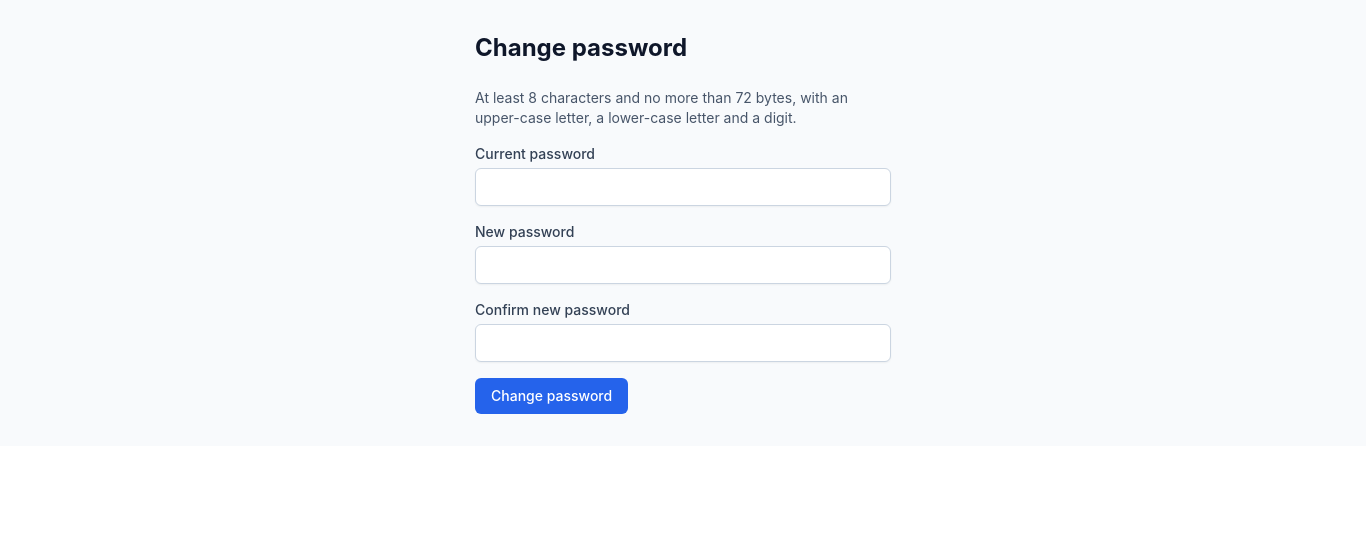
Test: ChangePasswordPage › shows the fixed sentence for incorrect (HTTP 403) and no server text
The width and height of the screenshot is (1366, 537).
Type "OldPass1" into the password field with test id "current-password-input". click: (683, 187)
box: [475, 168, 891, 206]
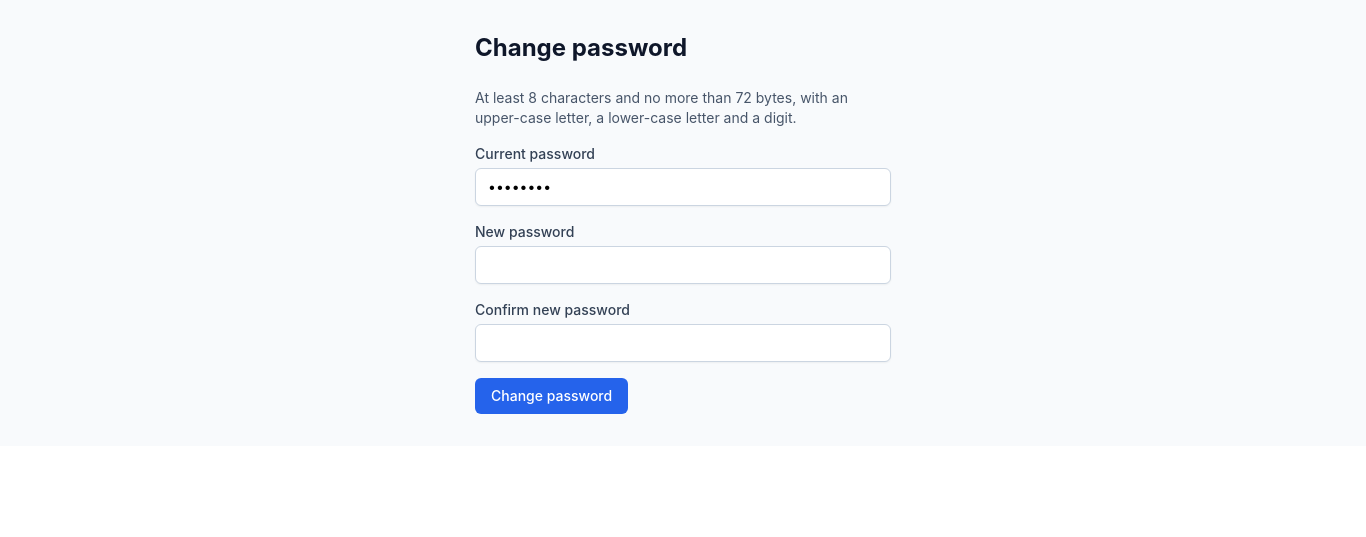
Type "NewPass12" into the password field with test id "new-password-input". click: (683, 265)
box: [475, 246, 891, 284]
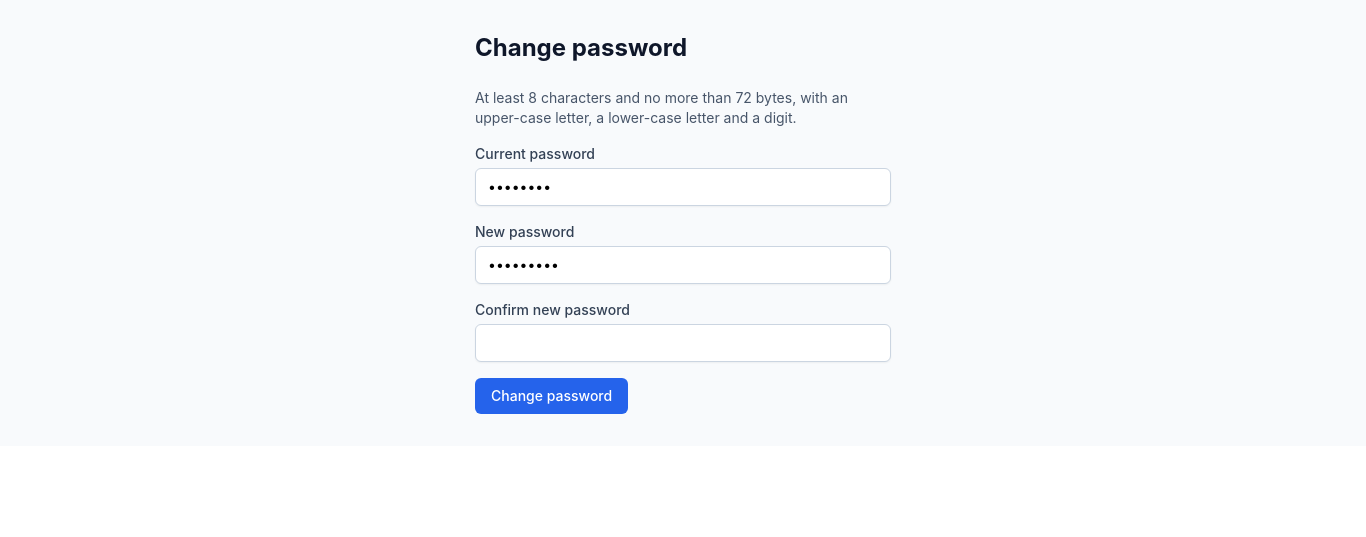
Type "NewPass12" into the password field with test id "confirm-password-input". click: (683, 343)
box: [475, 324, 891, 362]
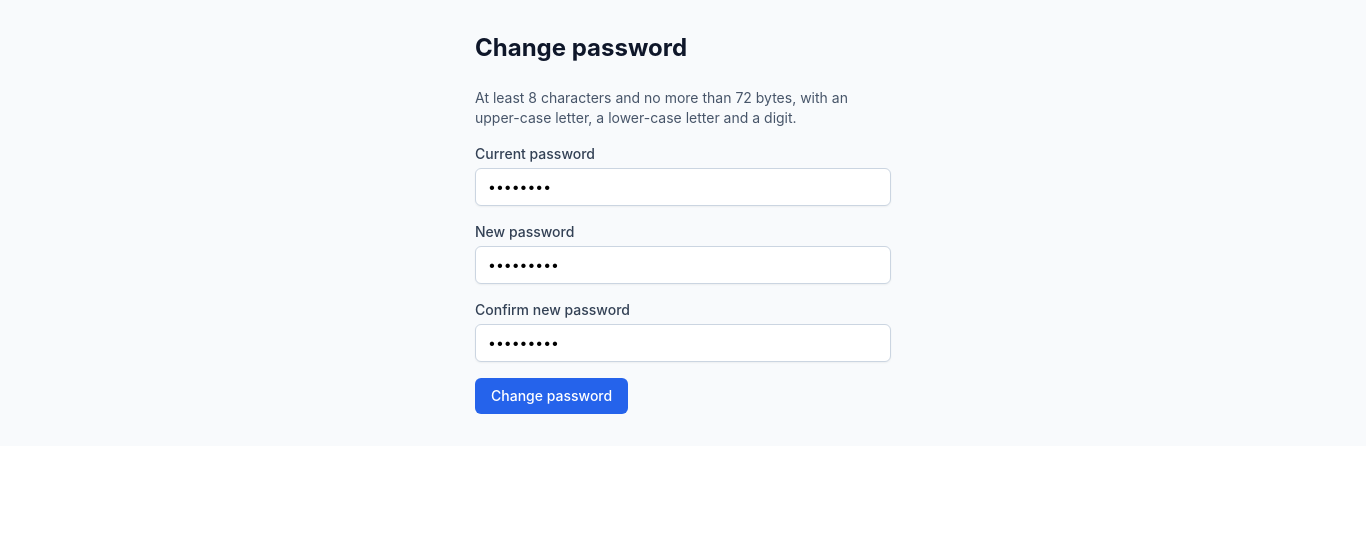
Click the button with test id "change-password-submit". click: click(552, 396)
box: [475, 378, 628, 414]
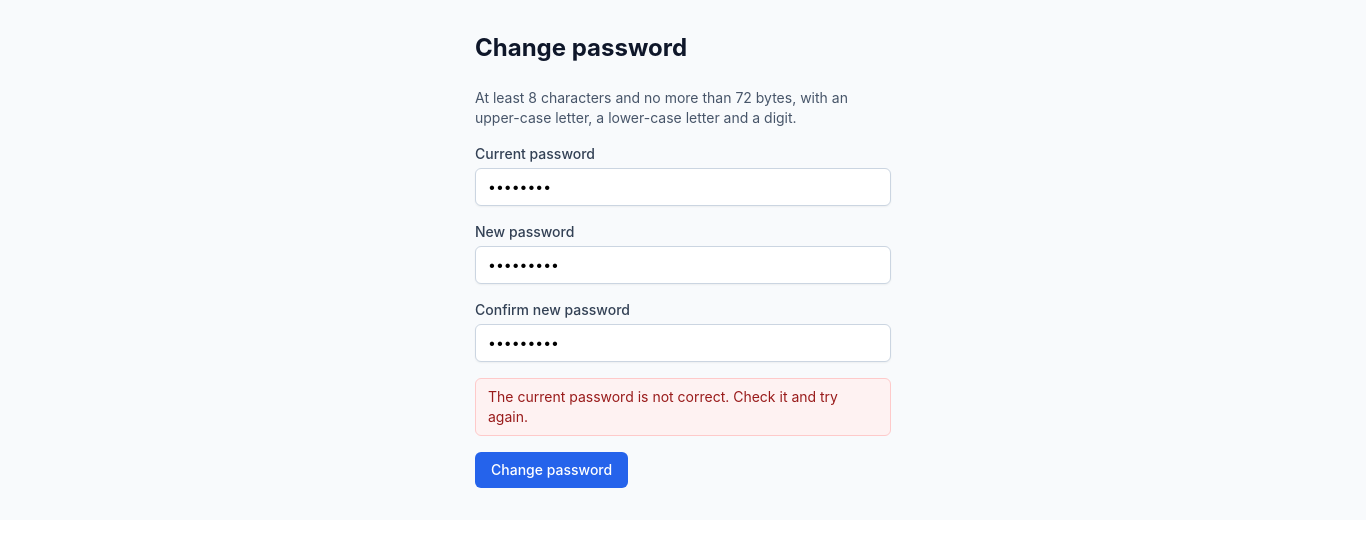
Result: the message with test id "change-password-outcome" reads "The current password is not correct. Check it and try again." at [488, 388, 838, 425]
